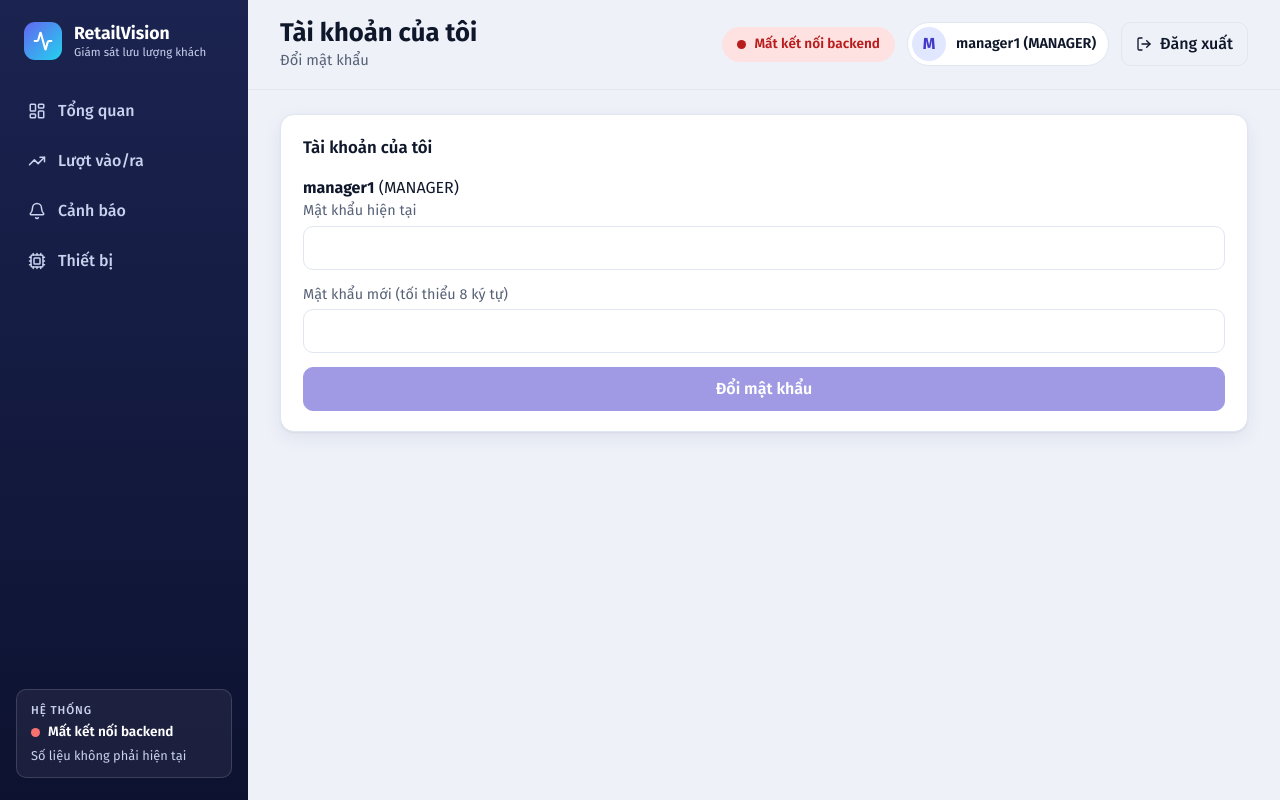
Test: trang Tài khoản của tôi › đổi mật khẩu gửi khóa snake_case kèm CSRF và báo thành công
Type "cu-cu-cu-cu" into the password field labelled "Mật khẩu hiện tại" at {"x": 764, "y": 248}, box left=303, top=226, right=1225, bottom=270
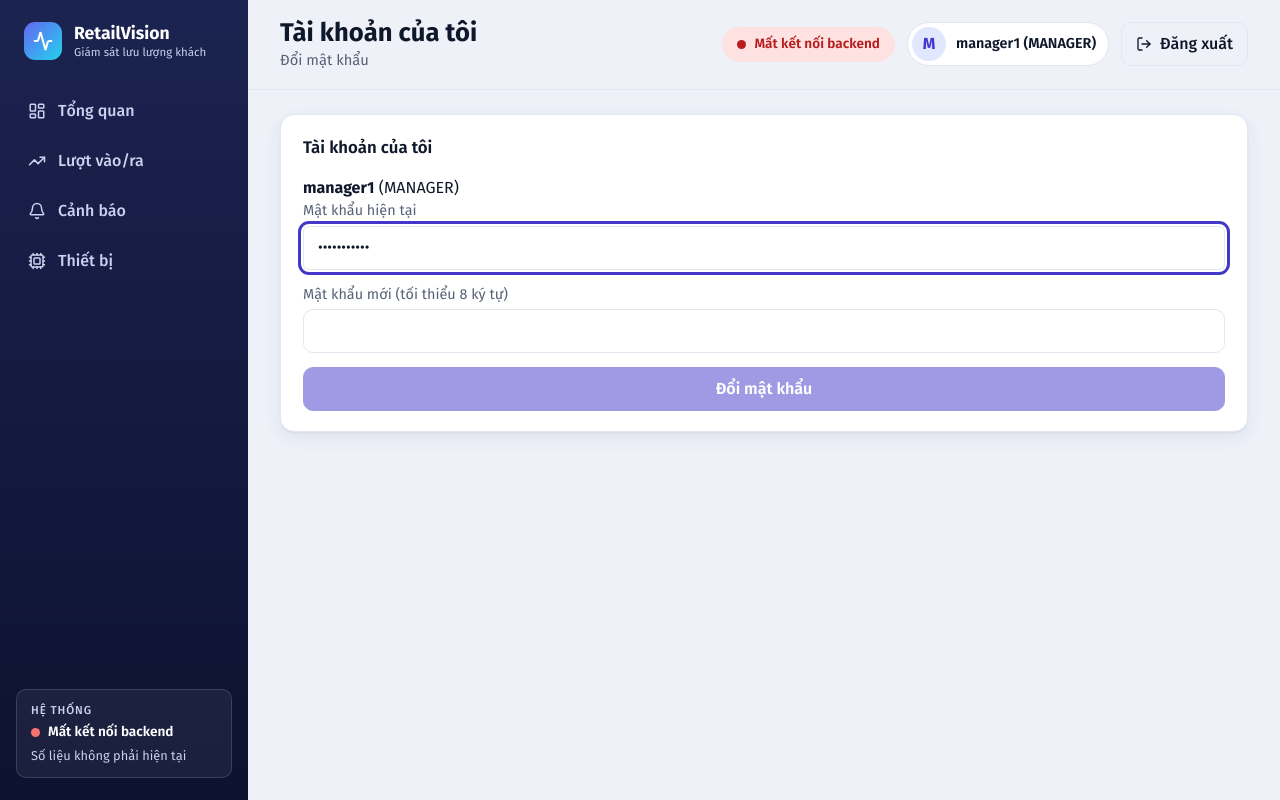
Type "moi-moi-moi" into the password field labelled "Mật khẩu mới (tối thiểu 8 ký tự)" at {"x": 764, "y": 331}, box left=303, top=309, right=1225, bottom=353
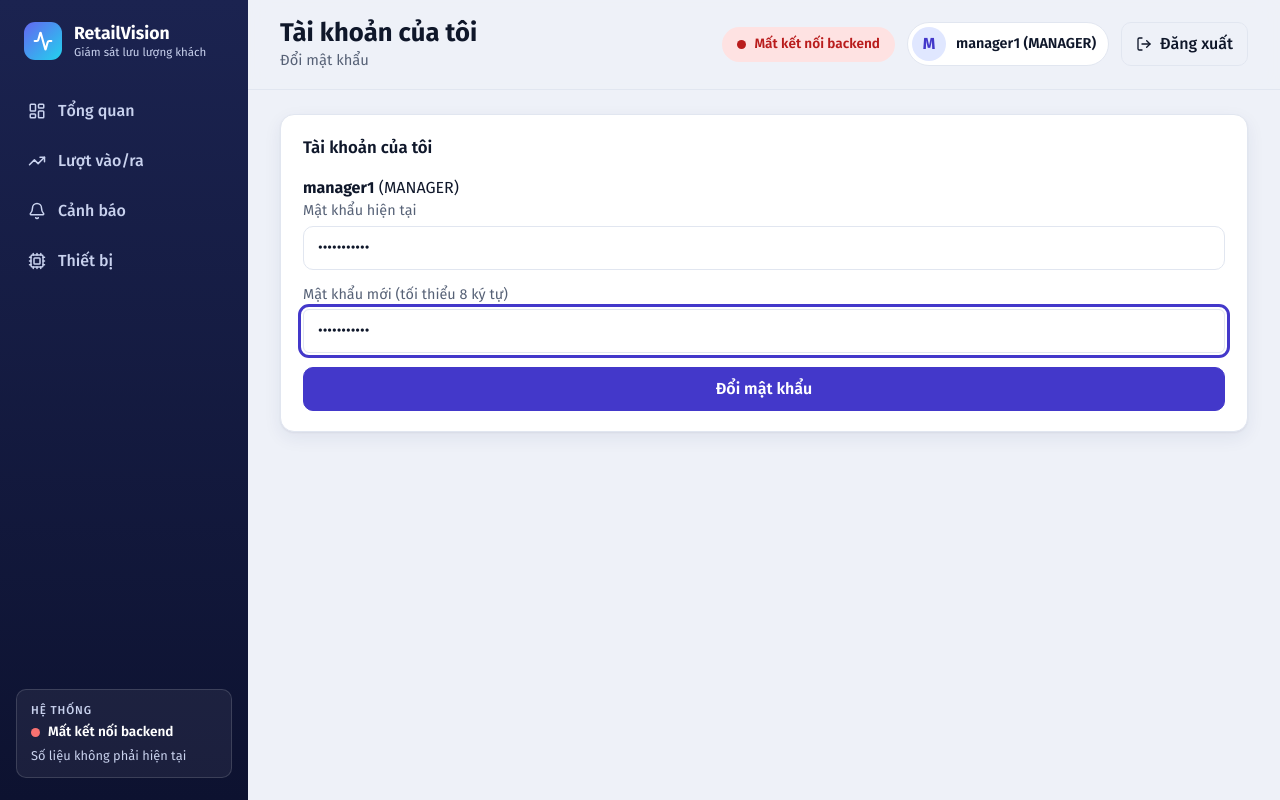
Click the button "Đổi mật khẩu" at {"x": 764, "y": 389}, box left=303, top=367, right=1225, bottom=411
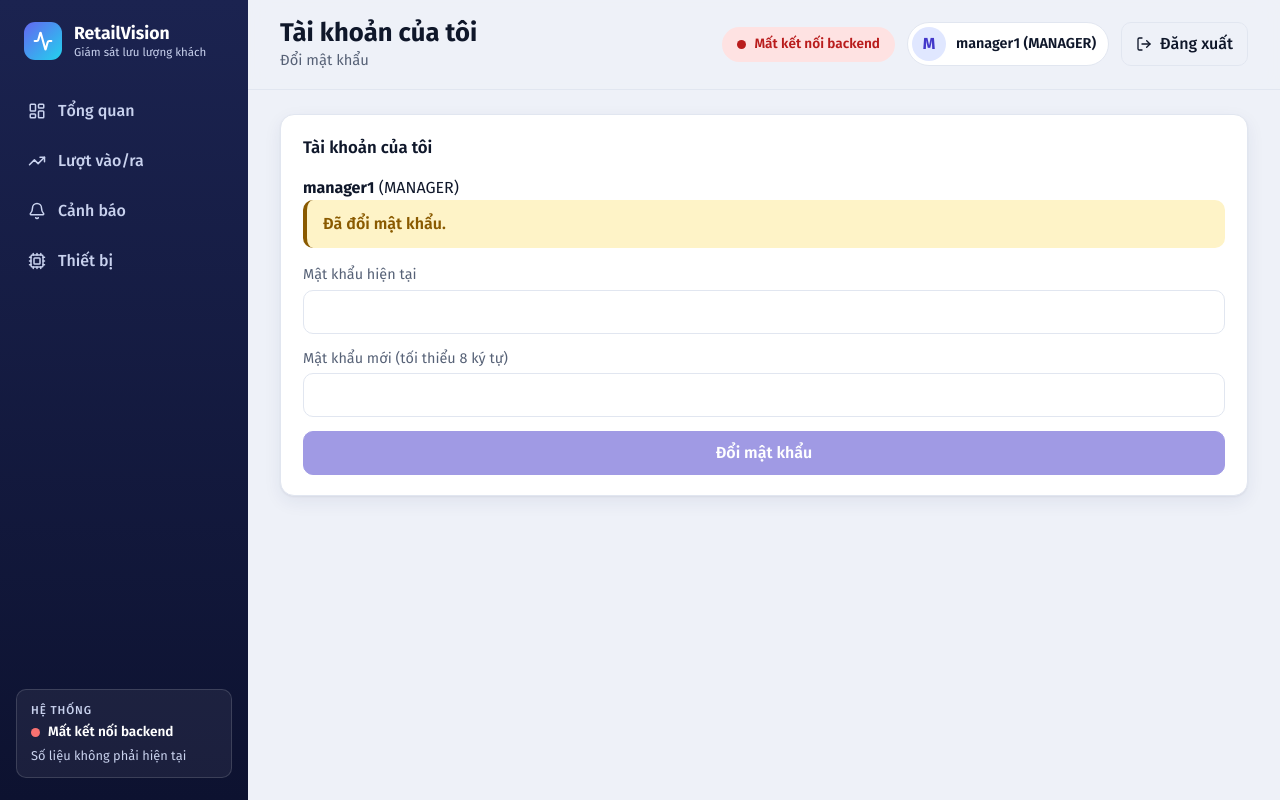
Check: the text "Đã đổi mật khẩu." is shown, box left=303, top=200, right=1225, bottom=248
